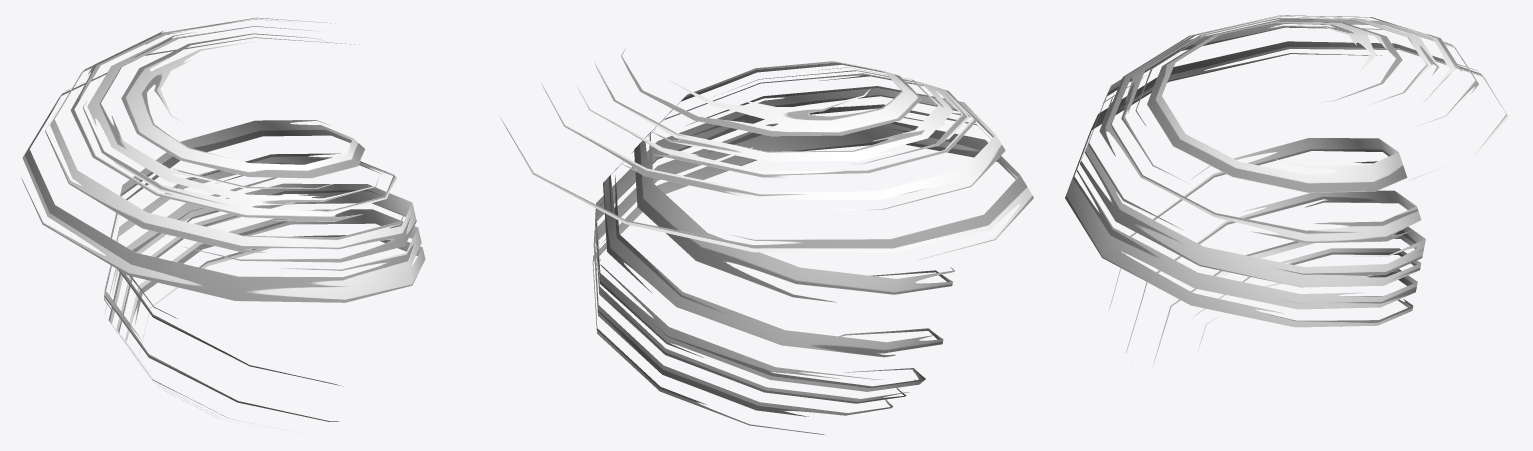
File: eff_trail_03.FBX
3 views of the same model, side by side, from view 1: azimuth 30°, elevation 25°; view 2: azimuth 150°, elevation 25°; view 3: azimuth 270°, elevation 25° (orthographic). The views are drawn at different scales.
Visible parts, largest first — view 1: eff_trail_03; view 2: eff_trail_03; view 3: eff_trail_03.
Part boxes in pixels (x1,y1,x2,y2): eff_trail_03: [21, 17, 425, 423]; eff_trail_03: [500, 48, 1033, 435]; eff_trail_03: [1065, 15, 1508, 367].
Bounding box in the file's own units: 140 × 112 × 131.
Materials: 1 (1 with a texture image).
